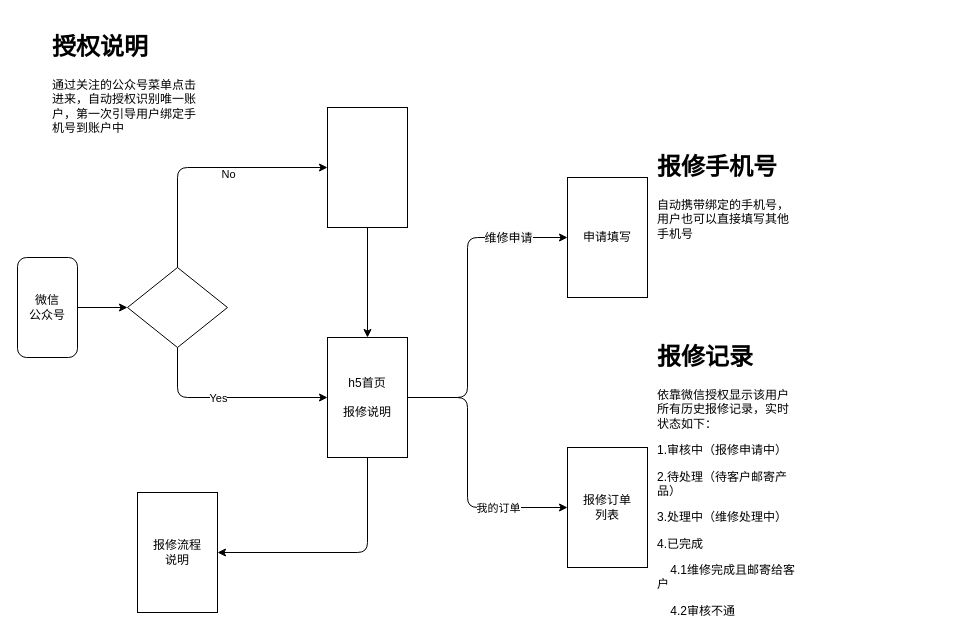
Image size: 965x634. Some labels were removed from this diagram. Each missing label, with the box of its shape:
是否 绑定过手机号: (126, 266, 228, 348)
账户 绑定手机号: (326, 106, 408, 228)
